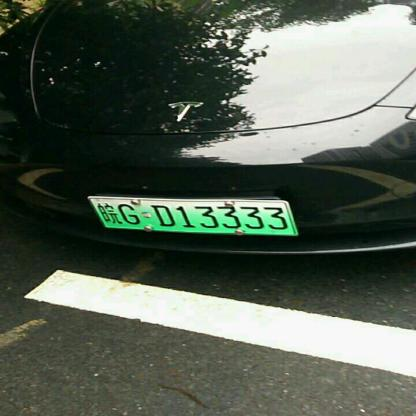lp: (89, 197, 296, 234)
